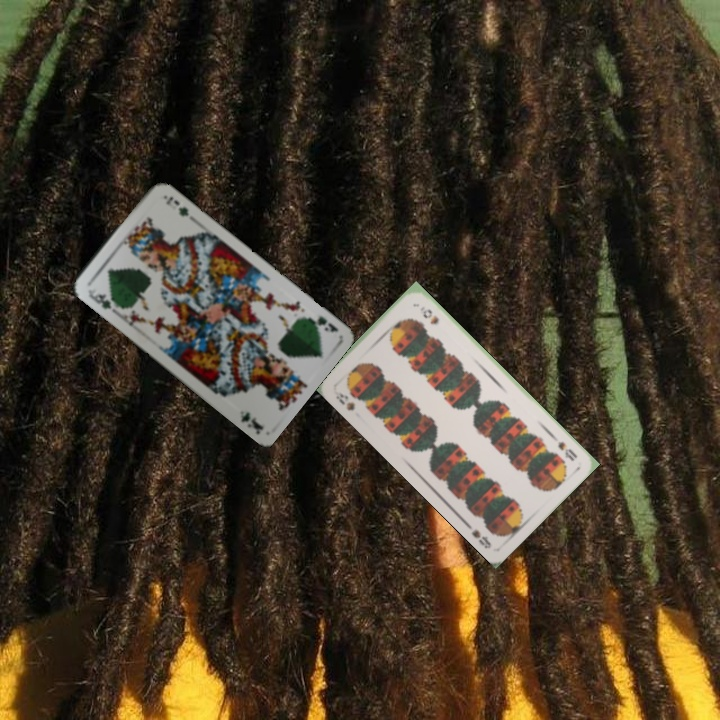GK: (84, 284, 120, 312), (302, 312, 341, 335)
S8: (548, 431, 580, 464), (331, 386, 358, 413)
